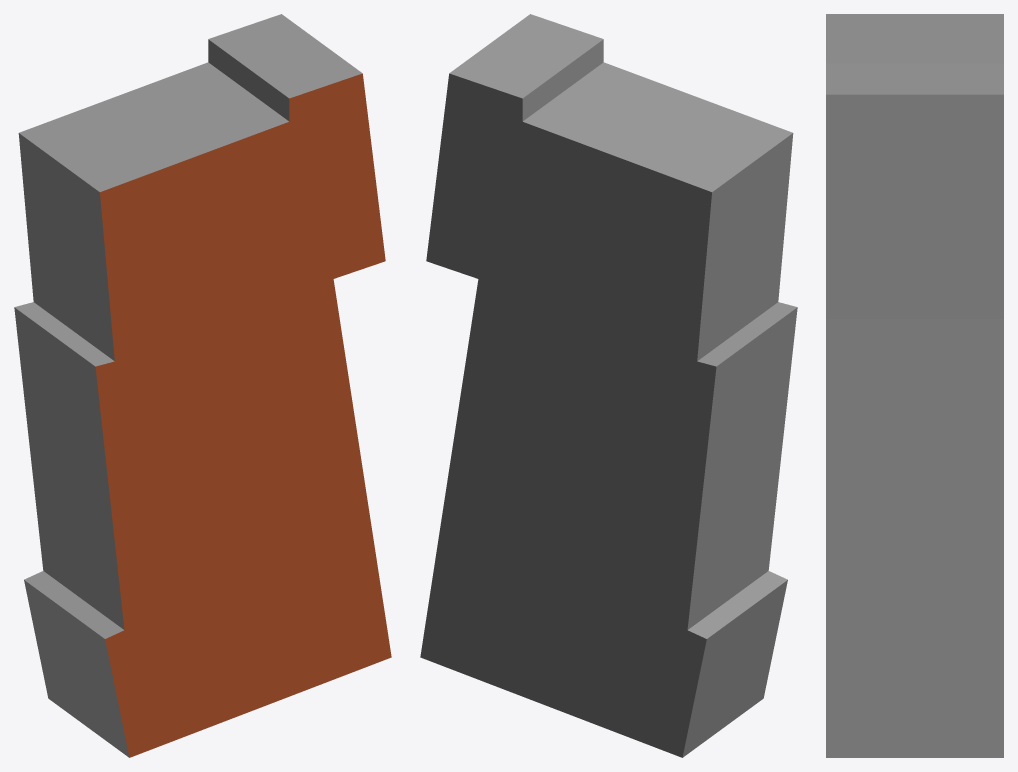
The model's file is construction_5236_assumed_A_Casa_h6m.obj.
3 views of the same model, side by side, from view 1: azimuth 30°, elevation 25°; view 2: azimuth 150°, elevation 25°; view 3: azimuth 270°, elevation 25° (orthographic). The views are drawn at different scales.
Visible parts, largest first — view 1: construction_5236_assumed_A_Casa; view 2: construction_5236_assumed_A_Casa; view 3: construction_5236_assumed_A_Casa.
Part boxes in pixels (x1,y1,x2,y2): construction_5236_assumed_A_Casa: (14,14,391,757); construction_5236_assumed_A_Casa: (420,14,797,757); construction_5236_assumed_A_Casa: (826,14,1003,757).
Size of the model in its own units: 12.64 by 25.59 by 6.
